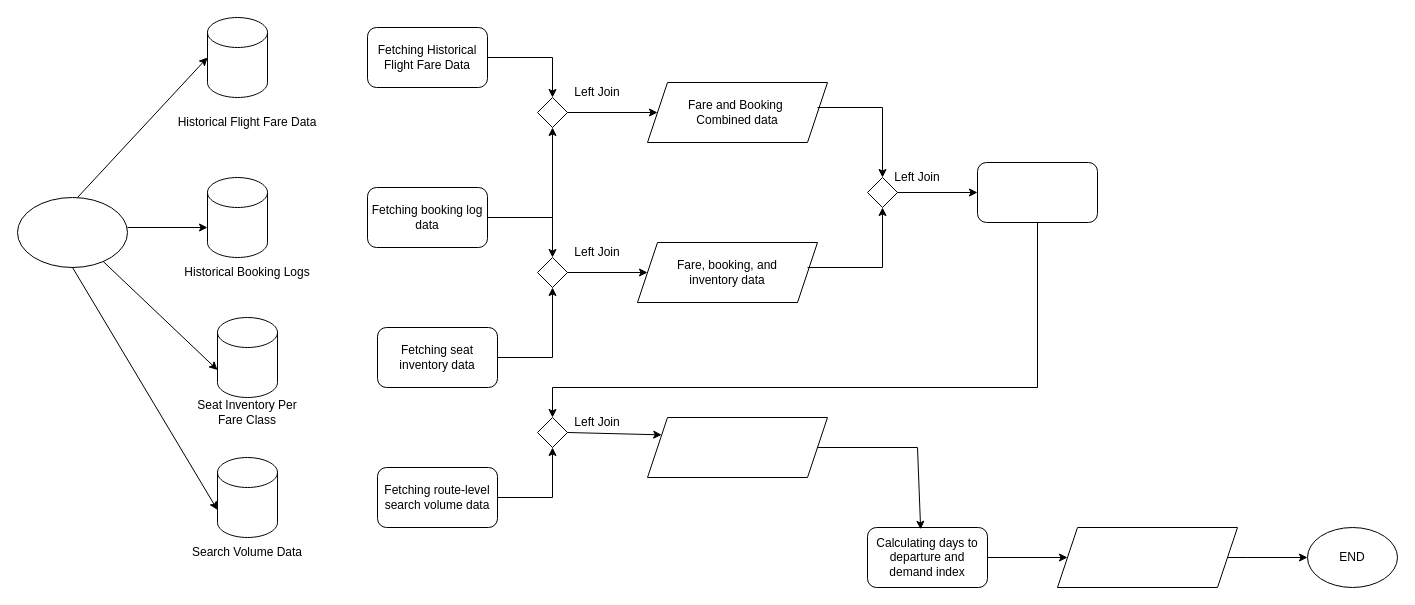
This 1415x605 diagram has some shape labels left out. Here are the shapes that lost their labels. From the top down, the centre of each, then its label:
pixel 1037 192: Calculating load factor (Seats Sold/Total Seats)
pixel 72 232: START
pixel 737 447: Demand enriched fare data
pixel 1147 557: Unified analytical dataset for fare prediction
